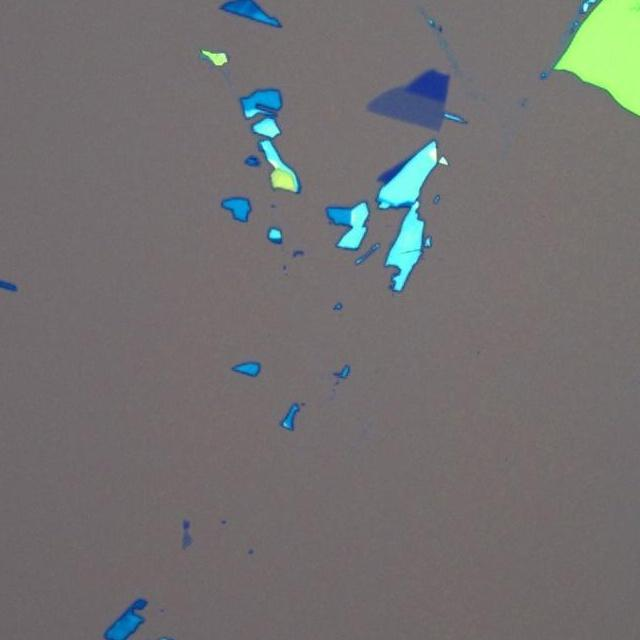monolayer-eWW4: (366, 84, 448, 132), (182, 528, 192, 551)
